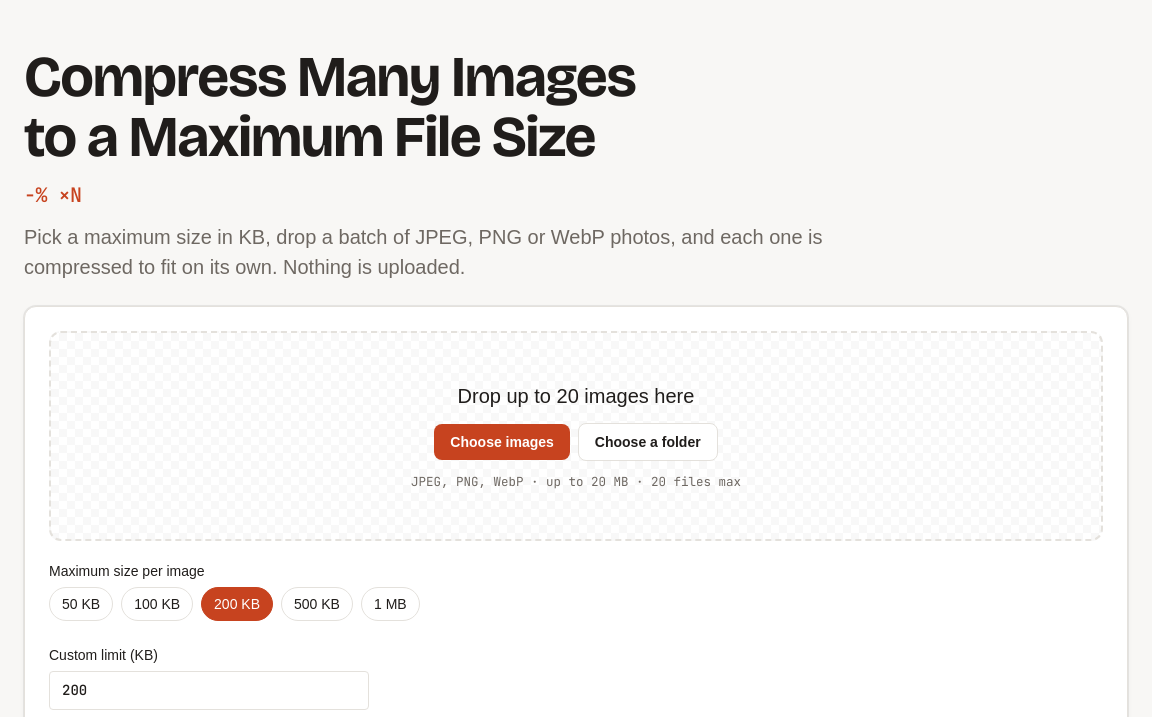
Test case: the maximum-size controls › selecting a chip fills the custom field and marks that chip active
Click the button "500 KB" at (317, 604), box [281,587,353,621]
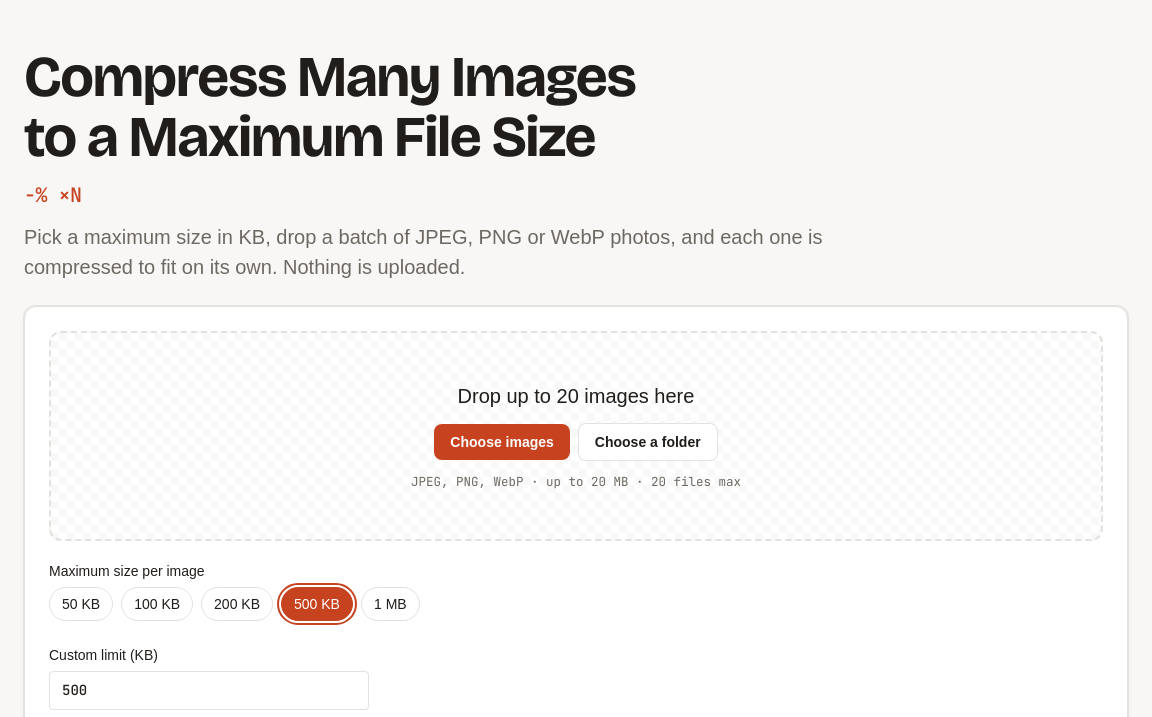
Expected: the number field labelled "Custom limit (KB)" holds "500", [49,672,369,710]
